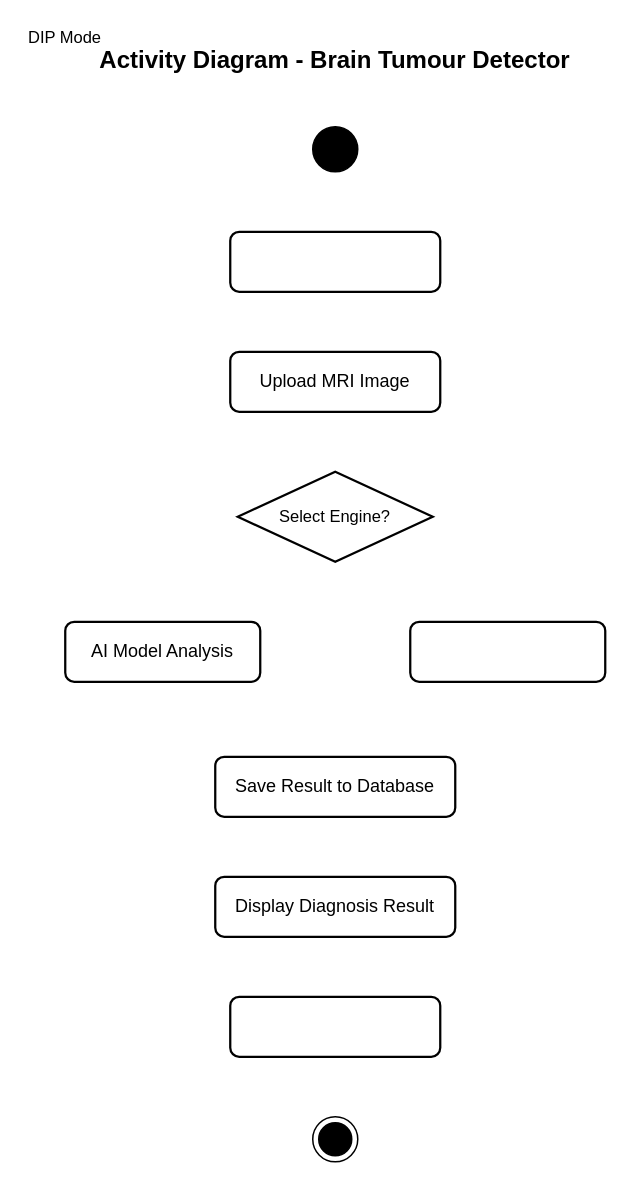
Image size: 632x1190. Some labels were removed from this diagram. The centre of each missing label's shape, as x and y in pixels:
"DIP Analysis" belongs at point (507, 651).
"Download Report" belongs at point (334, 1026).
"Login to System" belongs at point (334, 261).
